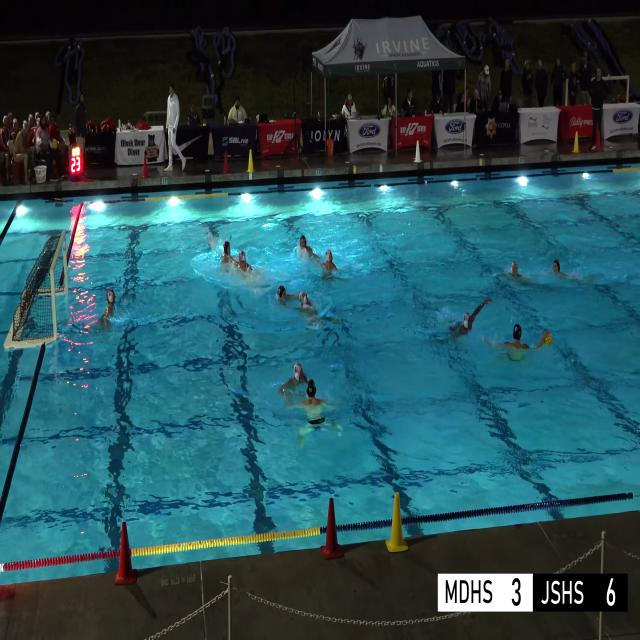ball: (544, 332, 552, 345), (52, 138, 58, 150)
